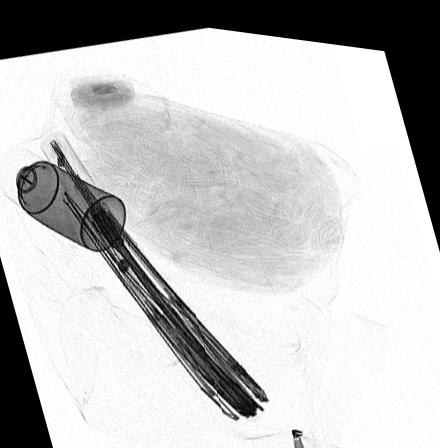Sprayer: (0, 143, 127, 247)
